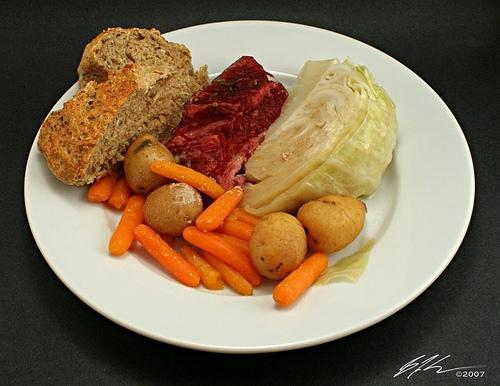carrot: (182, 226, 262, 286), (133, 225, 200, 287), (272, 251, 328, 307), (150, 160, 226, 200), (200, 250, 254, 296), (109, 195, 146, 256), (195, 188, 243, 231), (181, 244, 224, 290), (211, 232, 251, 260), (211, 218, 254, 242), (87, 174, 118, 202), (108, 176, 130, 212), (230, 207, 262, 227), (160, 235, 173, 246)
potato: (296, 194, 367, 254), (249, 212, 307, 280), (143, 182, 204, 238), (124, 134, 176, 198)
